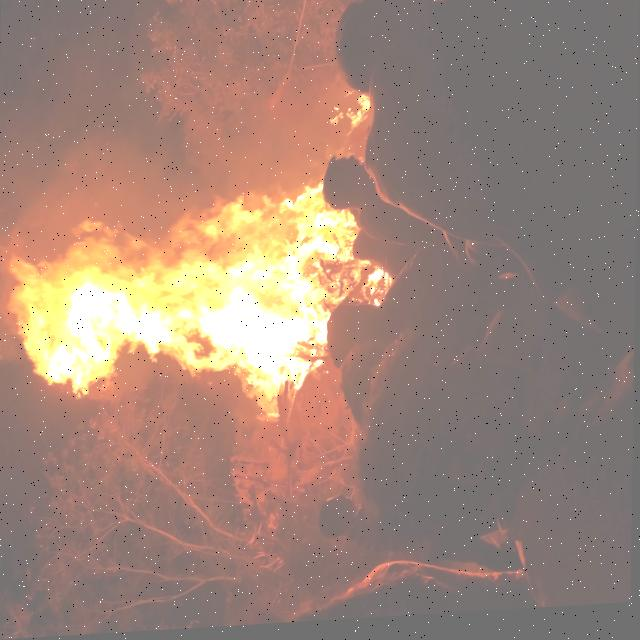Fire: (0, 178, 393, 438), (326, 92, 372, 139)
